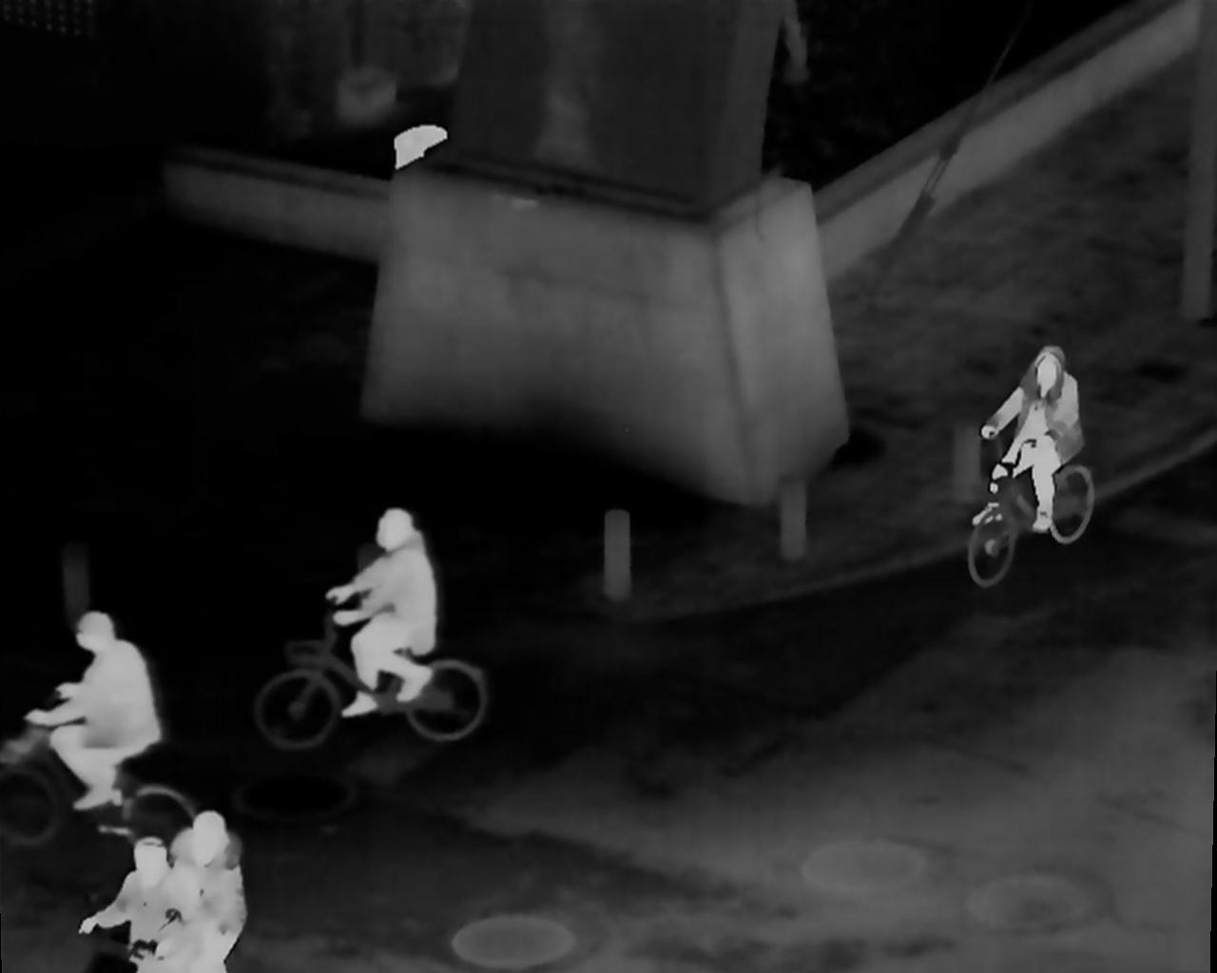person: (972, 340, 1105, 545), (36, 597, 152, 806), (346, 505, 453, 729), (159, 816, 264, 973), (112, 834, 188, 973)
